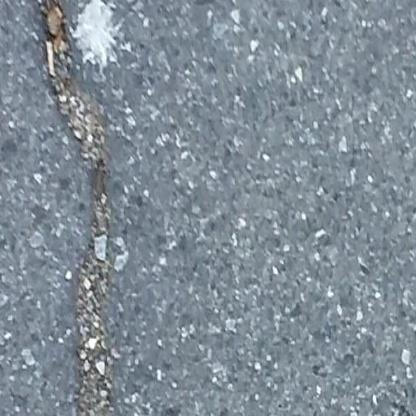Cracks: (43, 0, 115, 416)
